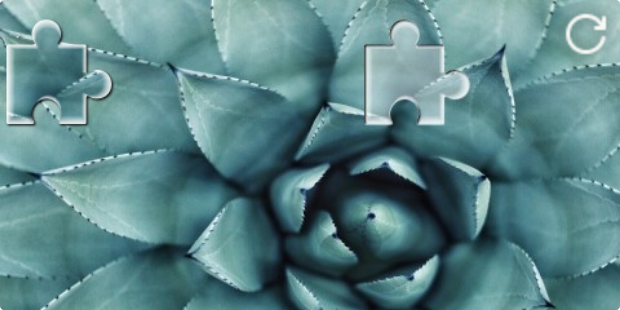target: (364, 20, 469, 125)
